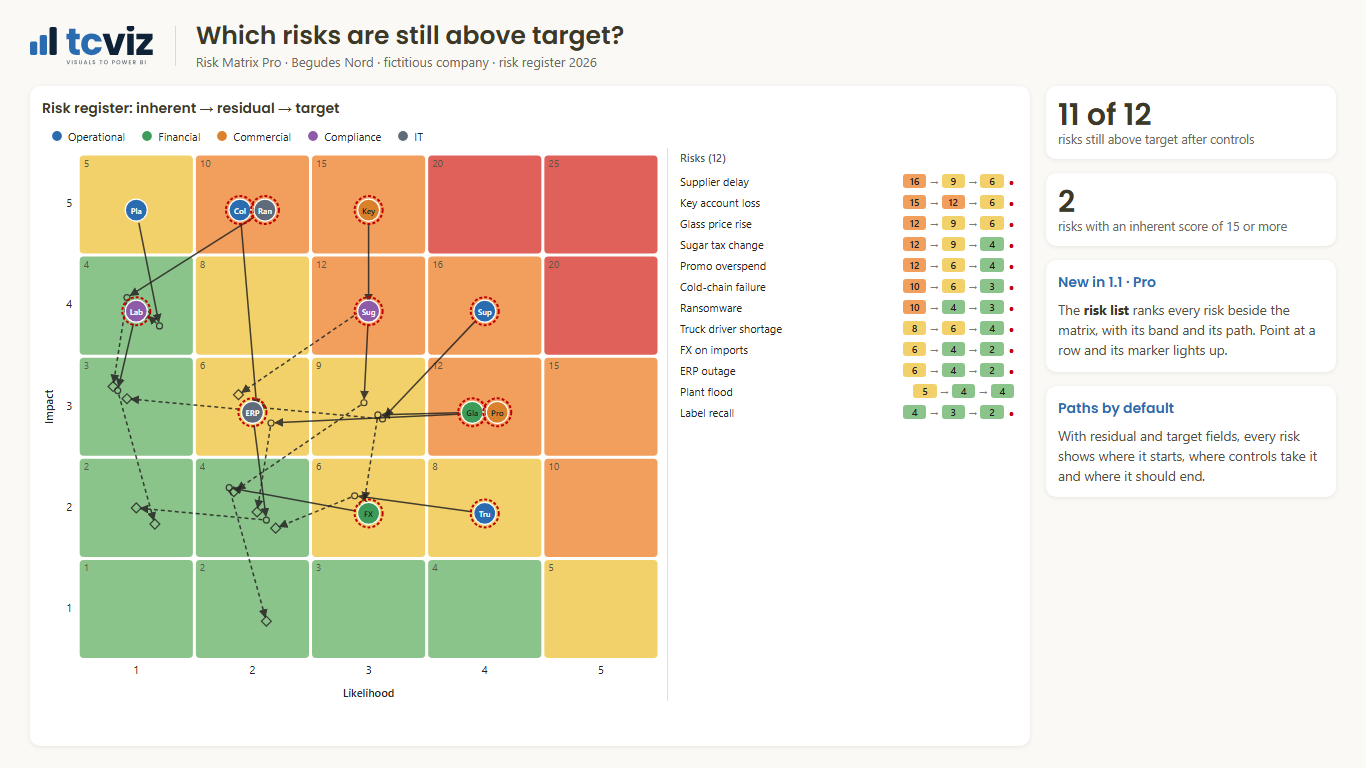

The dashboard page shown, as its layout file describes it:
{"tool":"powerbi","page":{"name":"Page 1","canvas":[1920,1080],"ordinal":0},"visuals":[{"type":"image","box":[29.3,13.3,217.1,79.6],"z":1},{"type":"riskMatrixProEA50FD0540E0418BA9354F645C4AAA7A","fields":{"risk":["sample-risks (2).Risk"],"likelihood":["Sum(sample-risks (2).Likelihood)"],"category":["sample-risks (2).Category"],"impact":["Sum(sample-risks (2).Impact)"],"residualImpact":["Sum(sample-risks (2).ResidualImpact)"],"residualLikelihood":["Sum(sample-risks (2).ResidualLikelihood)"],"targetLikelihood":["Sum(sample-risks (2).TargetLikelihood)"],"targetImpact":["Sum(sample-risks (2).TargetImpact)"]},"box":[28.7,122.5,1867.1,935.8],"z":2}]}

Visuals, with their boxes in screenshot pixels (x1, y1, x2, y2), scaled from the page's 1920x1080 canvas onto the 1366x768 screenshot:
image: {"x1": 21, "y1": 9, "x2": 175, "y2": 66}
riskMatrixProEA50FD0540E0418BA9354F645C4AAA7A - sample-risks (2).Risk x Sum(sample-risks (2).Likelihood): {"x1": 20, "y1": 87, "x2": 1349, "y2": 753}
